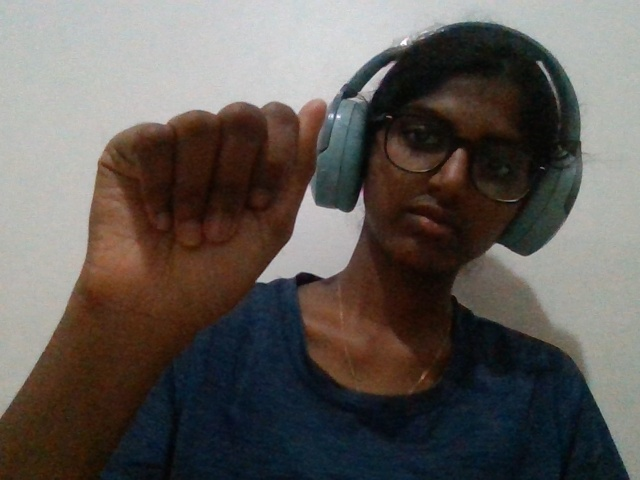A: (32, 80, 339, 403)
